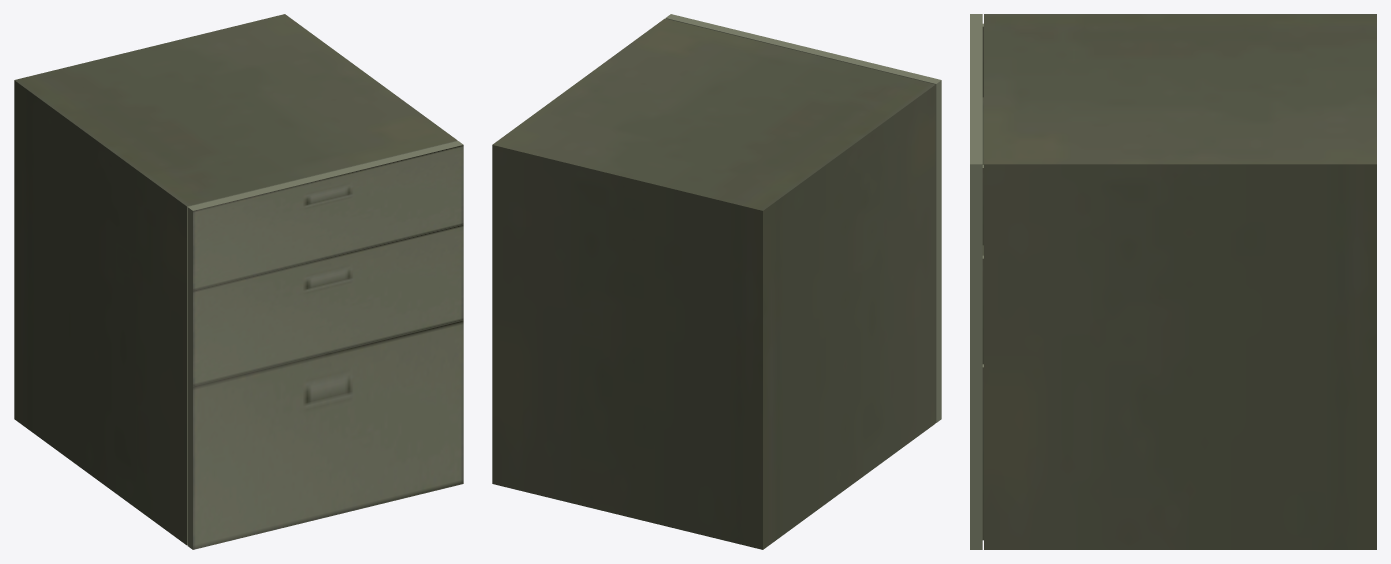
Rendered from file_cabinet_2.FBX.
3 renders of one model, left to right at view 1: azimuth 30°, elevation 25°; view 2: azimuth 150°, elevation 25°; view 3: azimuth 270°, elevation 25°, orthographic. The views are drawn at different scales.
Parts seen in each view (by area): view 1: file_cabinet_2, slot_5, slot_4, slot_3; view 2: file_cabinet_2, slot_3, slot_5, slot_4; view 3: file_cabinet_2, slot_3, slot_5, slot_4.
Boxes of the visible parts, <box> form: file_cabinet_2: <box>14,14,457,545</box>; slot_5: <box>187,320,463,549</box>; slot_4: <box>187,224,463,386</box>; slot_3: <box>187,141,463,290</box>; file_cabinet_2: <box>492,18,935,549</box>; slot_3: <box>665,14,941,163</box>; slot_5: <box>935,256,941,422</box>; slot_4: <box>935,160,941,259</box>; file_cabinet_2: <box>984,14,1376,549</box>; slot_3: <box>970,14,983,254</box>; slot_5: <box>970,354,983,549</box>; slot_4: <box>970,245,983,363</box>.
Size of the model in its own units: 63.11 by 75.51 by 72.17.
